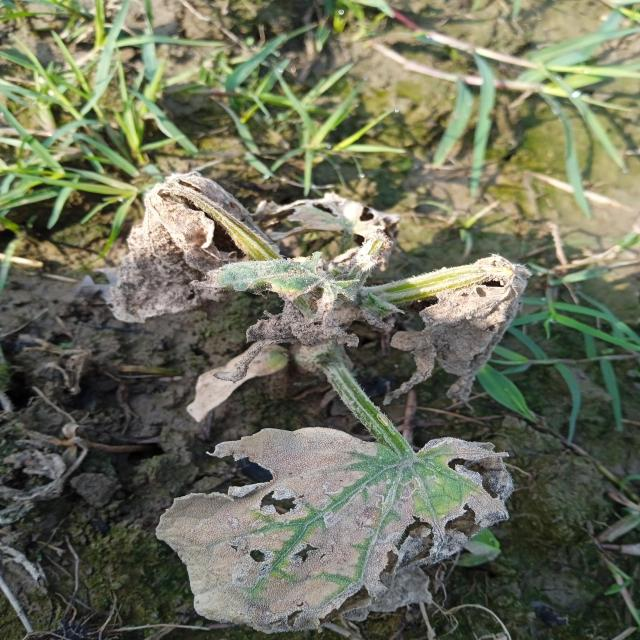cucumber_bacterial: (152, 427, 523, 639), (94, 152, 210, 344), (213, 248, 356, 377), (403, 264, 531, 390), (274, 161, 422, 254), (168, 328, 279, 433)
